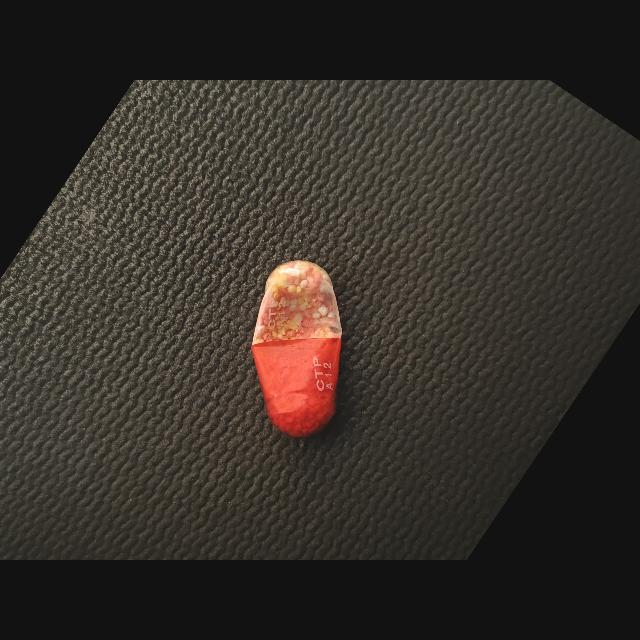Defective Capsule: (251, 260, 342, 437)
